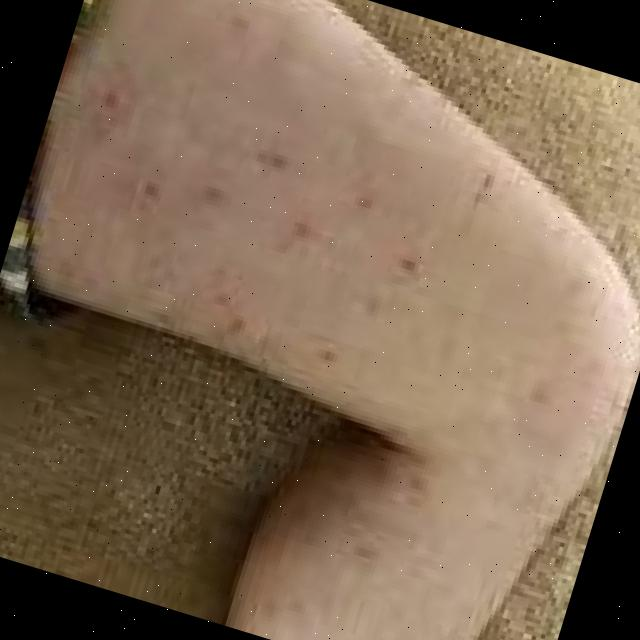kan emici bocekler: (65, 70, 149, 155), (511, 347, 587, 432), (313, 532, 403, 582), (205, 302, 279, 356), (253, 202, 311, 267), (379, 237, 439, 297), (183, 170, 244, 229), (338, 169, 398, 227), (256, 129, 312, 188), (195, 262, 255, 315), (127, 164, 170, 221), (392, 459, 432, 514)
